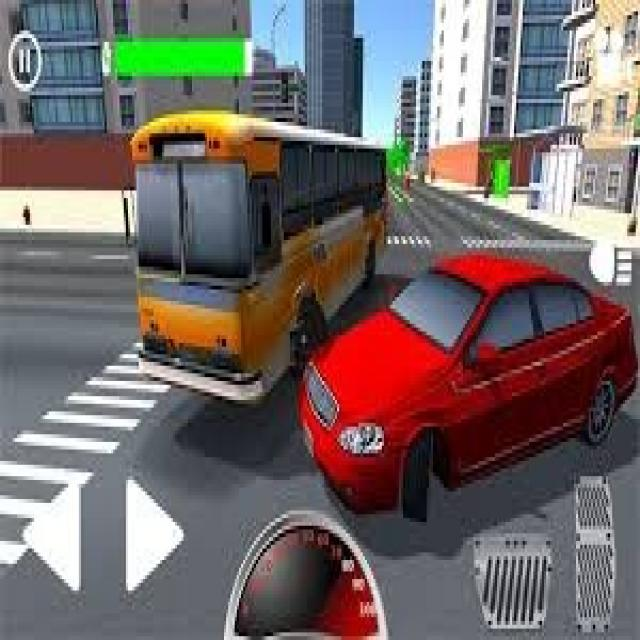bus: (128, 106, 389, 414)
